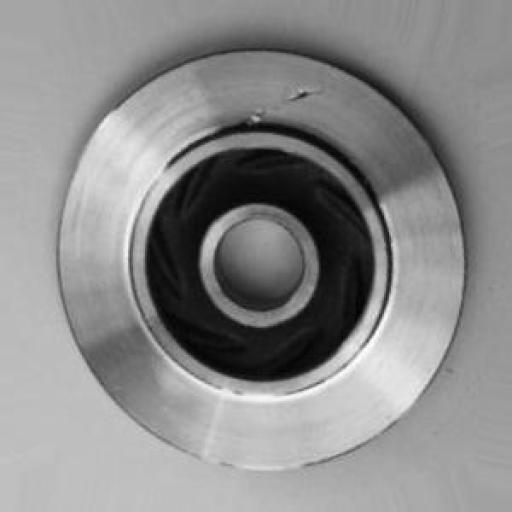defect: (222, 52, 332, 145)
